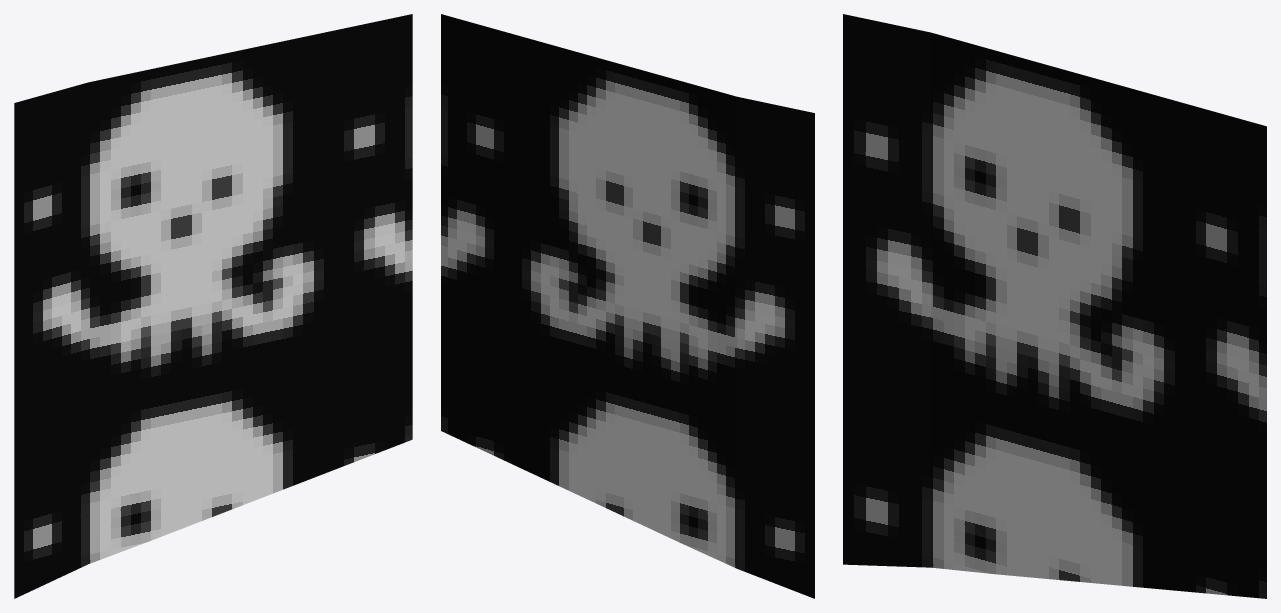
File: pollution05.dae
3 views of the same model, side by side, from view 1: azimuth 30°, elevation 25°; view 2: azimuth 150°, elevation 25°; view 3: azimuth 330°, elevation 25° (orthographic). The views are drawn at different scales.
Parts seen in each view (by area): view 1: m0; view 2: m0; view 3: m0.
Part boxes in pixels (x1=…): m0: x1=14, y1=14, x2=412, y2=598; m0: x1=441, y1=14, x2=814, y2=598; m0: x1=843, y1=14, x2=1266, y2=598.
Bounding box in the file's own units: 1272 × 1546 × 61.95.
1 material, 1 textured.
